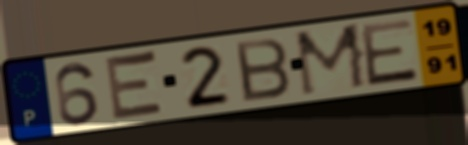2: (177, 44, 234, 111)
6: (52, 59, 102, 128)
B: (231, 35, 293, 104)
E: (103, 48, 168, 124), (357, 16, 421, 89)
M: (291, 20, 370, 100)
